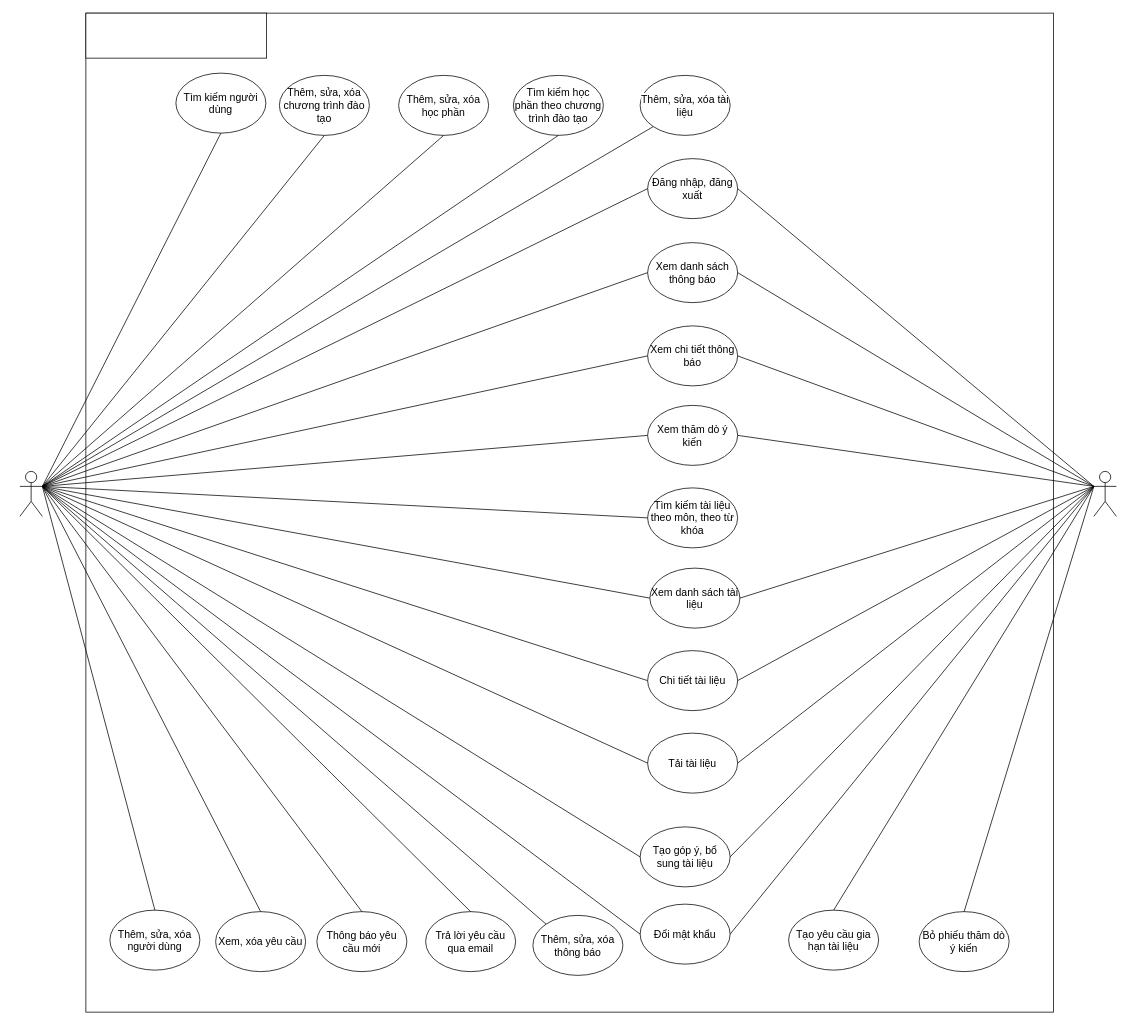
This 1146x1025 diagram has some shape labels left out. The centre of each missing label's shape, as x and y in pixels:
Hệ thống tra cứu tài liệu trực tuyến: point 176,35
Người dùng: point 1104,493
Quản lý: point 30,493
